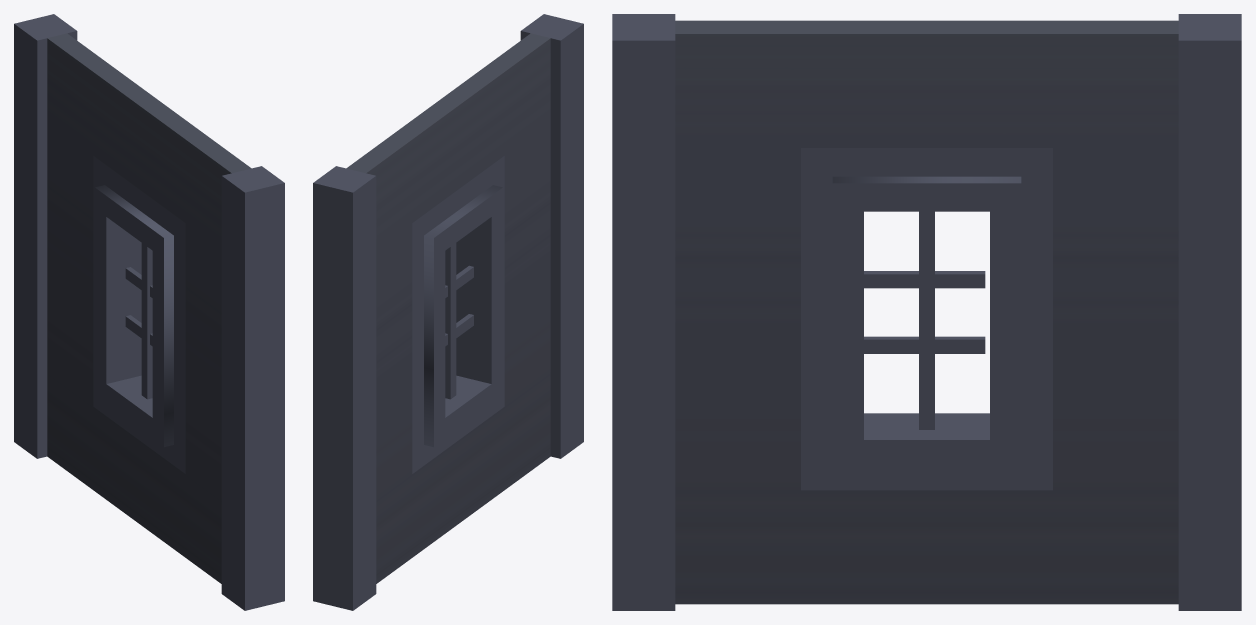
File: wall-window-glass.glb
3 renders of one model, left to right at view 1: azimuth 30°, elevation 25°; view 2: azimuth 150°, elevation 25°; view 3: azimuth 270°, elevation 25°, orthographic. The views are drawn at different scales.
Parts seen in each view (by area): view 1: wall-window-glass; view 2: wall-window-glass; view 3: wall-window-glass.
Boxes of the visible parts, x1,y1,x2,y2 form: wall-window-glass: (14,14,284,610); wall-window-glass: (313,14,583,610); wall-window-glass: (612,14,1241,610).
Bounding box in the file's own units: 0.1 × 1 × 1.
Materials: 1 (1 with a texture image).
